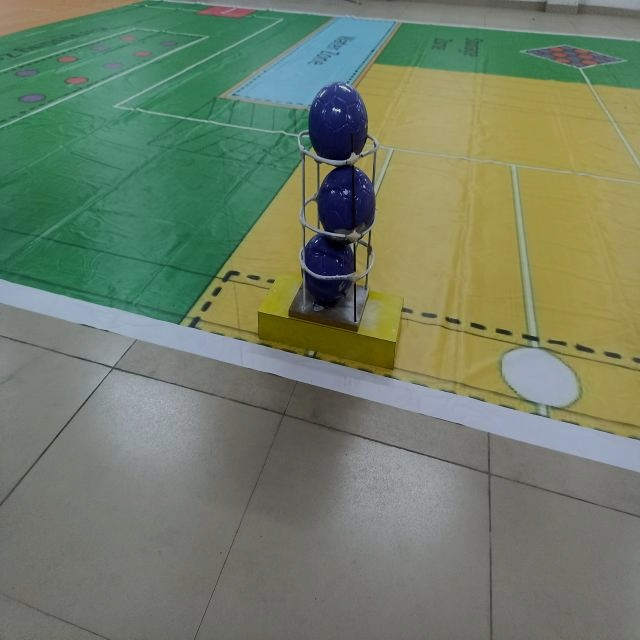purple_ball: (306, 78, 371, 163), (318, 164, 376, 246), (301, 232, 357, 313)
silo: (287, 118, 378, 343)
